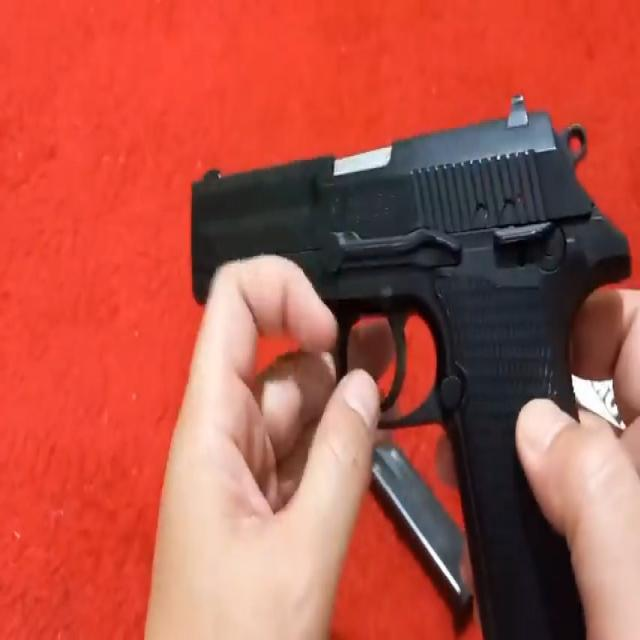handgun: (179, 104, 605, 600)
